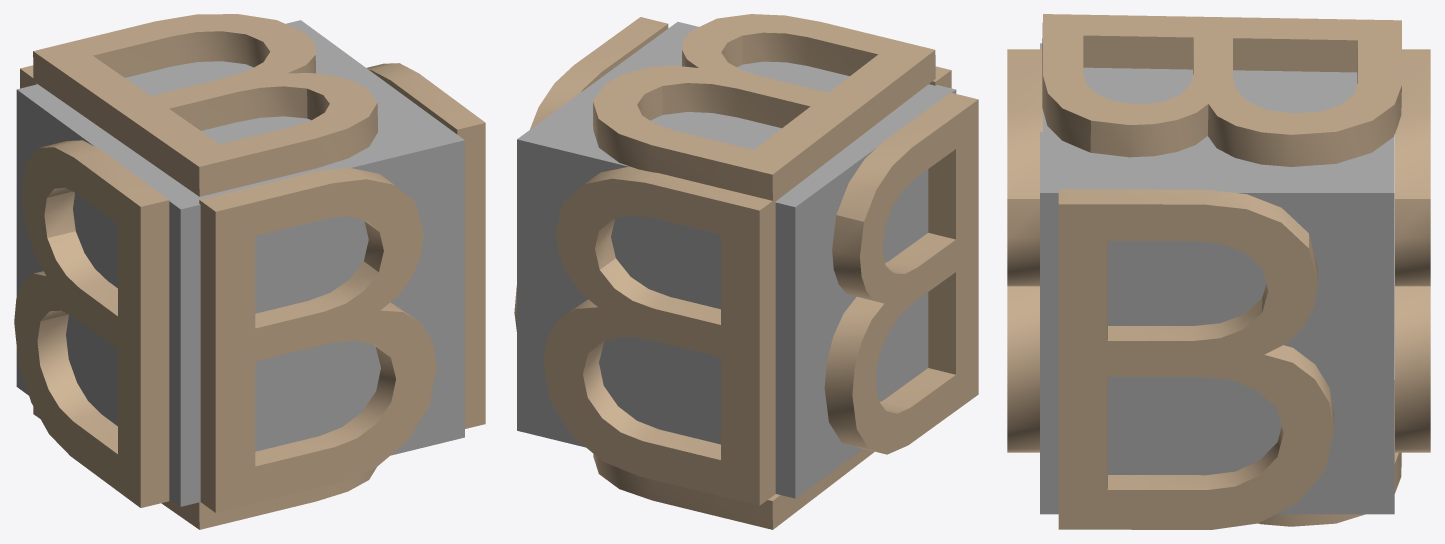
File: LetterB.fbx
3 renders of one model, left to right at view 1: azimuth 30°, elevation 25°; view 2: azimuth 150°, elevation 25°; view 3: azimuth 270°, elevation 25°, orthographic. The views are drawn at different scales.
Parts seen in each view (by area): view 1: Box, Text Front, Text Left, Text Top, Text Right, Text Bottom; view 2: Box, Text Back, Text Left, Text Top, Text Bottom, Text Right; view 3: Box, Text Right, Text Top, Text Back, Text Front, Text Bottom.
Boxes of the visible parts, x1=… form: Box: x1=16, y1=20, x2=464, y2=506; Text Front: x1=199, y1=167, x2=436, y2=512; Text Left: x1=14, y1=140, x2=169, y2=507; Text Top: x1=33, y1=14, x2=377, y2=196; Text Right: x1=367, y1=63, x2=485, y2=428; Text Bottom: x1=33, y1=406, x2=376, y2=529; Box: x1=517, y1=22, x2=956, y2=498; Text Back: x1=543, y1=167, x2=775, y2=505; Text Left: x1=824, y1=92, x2=978, y2=454; Text Top: x1=593, y1=14, x2=935, y2=200; Text Bottom: x1=593, y1=449, x2=874, y2=529; Text Right: x1=514, y1=17, x2=668, y2=331; Box: x1=1040, y1=43, x2=1394, y2=514; Text Right: x1=1058, y1=189, x2=1334, y2=529; Text Top: x1=1042, y1=14, x2=1401, y2=166; Text Back: x1=1395, y1=49, x2=1430, y2=452; Text Front: x1=1007, y1=49, x2=1042, y2=452; Text Bottom: x1=1258, y1=380, x2=1401, y2=526.
Size of the model in its own units: 1.22 by 1.24 by 1.19.
